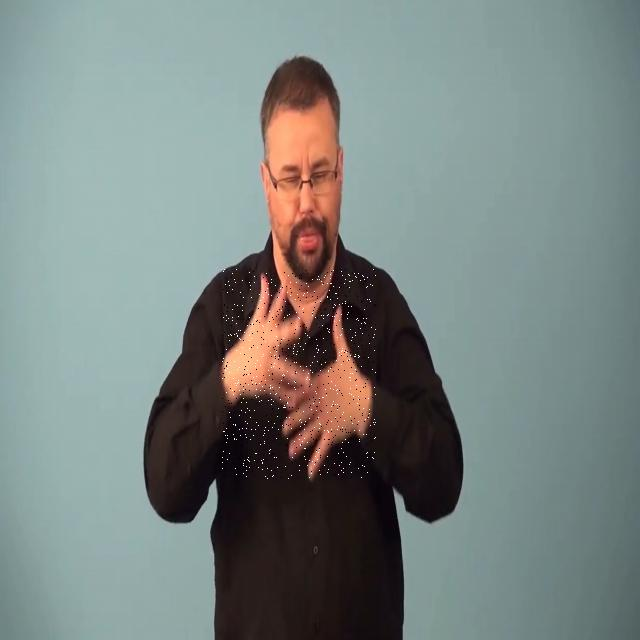juicy: (222, 269, 376, 479)
